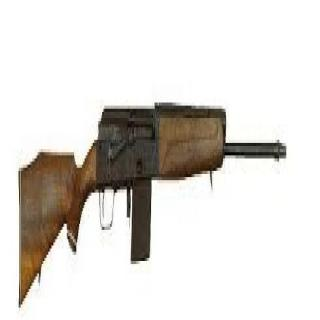gun: (6, 49, 298, 304)
